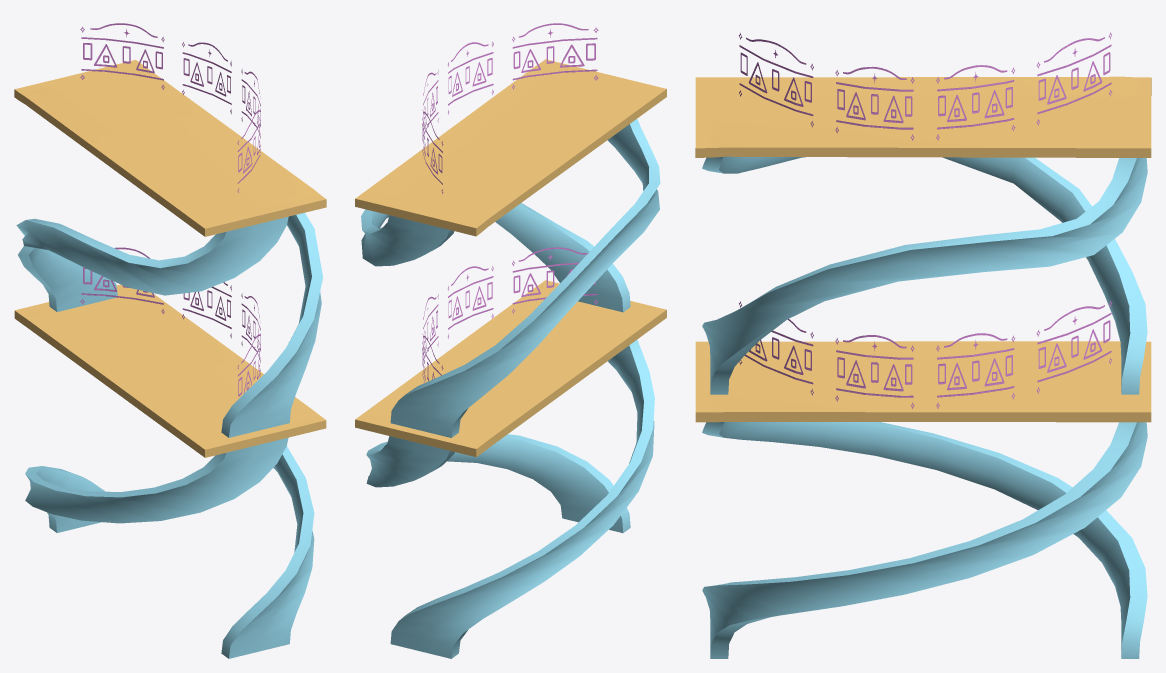
3 views of the same model, side by side, from view 1: azimuth 30°, elevation 25°; view 2: azimuth 150°, elevation 25°; view 3: azimuth 270°, elevation 25° (orthographic). The views are drawn at different scales.
Parts seen in each view (by area): view 1: shelf, magic wall; view 2: shelf, magic wall; view 3: shelf, magic wall.
Boxes of the visible parts, left/top/right/bottom form: shelf: left=14, top=60, right=326, bottom=658; magic wall: left=80, top=23, right=260, bottom=396; shelf: left=355, top=59, right=666, bottom=658; magic wall: left=422, top=23, right=598, bottom=382; shelf: left=695, top=76, right=1151, bottom=658; magic wall: left=739, top=32, right=1111, bottom=408.
Size of the model in its own units: 1245 by 2781 by 1859.
3 materials, 1 textured.
